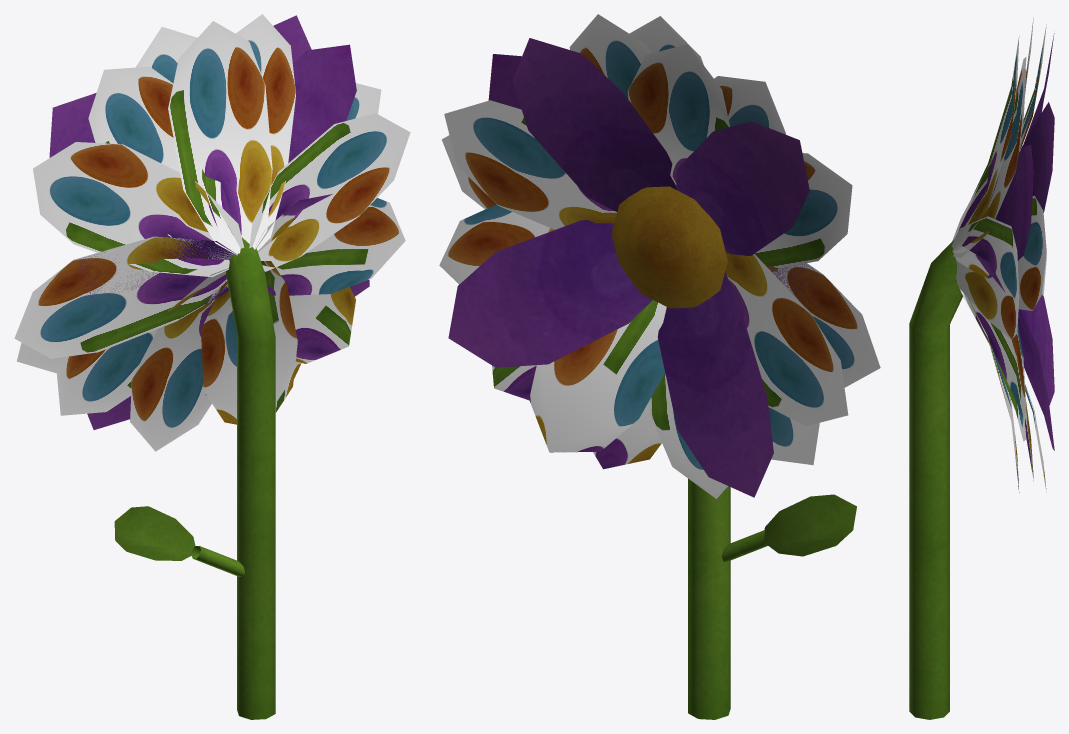
The model's file is Flower2.fbx.
3 renders of one model, left to right at view 1: azimuth 30°, elevation 25°; view 2: azimuth 150°, elevation 25°; view 3: azimuth 270°, elevation 25°, orthographic. The views are drawn at different scales.
Parts seen in each view (by area): view 1: Flower2; view 2: Flower2; view 3: Flower2.
Part boxes in pixels (box(x1,y1,x2,y2)): Flower2: box(14, 14, 410, 719); Flower2: box(439, 14, 880, 719); Flower2: box(909, 17, 1054, 719).
Size of the model in its own units: 2.6 by 4.13 by 0.8049.
